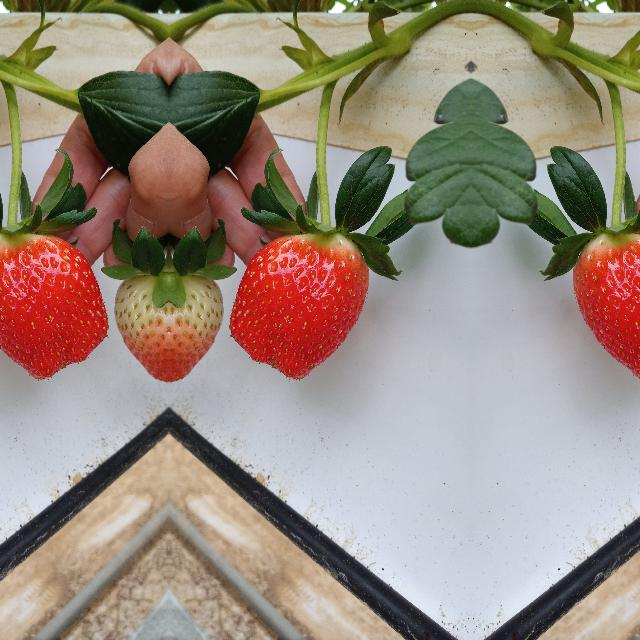Health_100: (228, 232, 368, 381), (0, 231, 108, 380), (572, 231, 640, 380)
Health_75: (168, 259, 224, 389), (112, 259, 168, 389)
